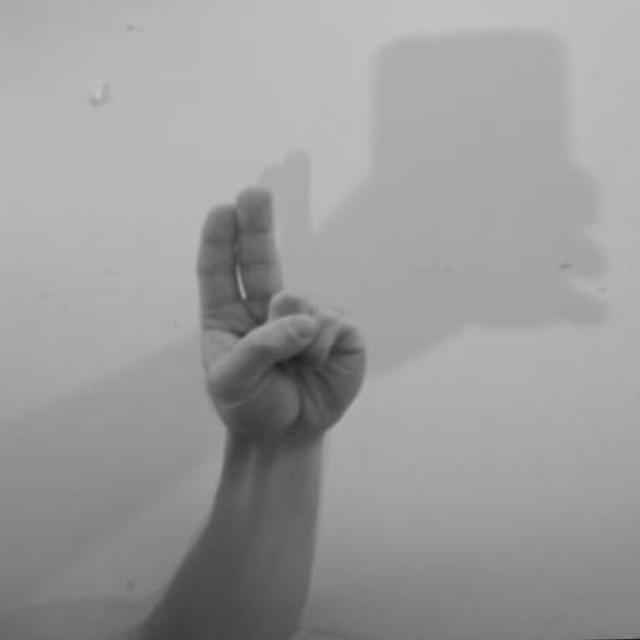U: (164, 181, 381, 640)
